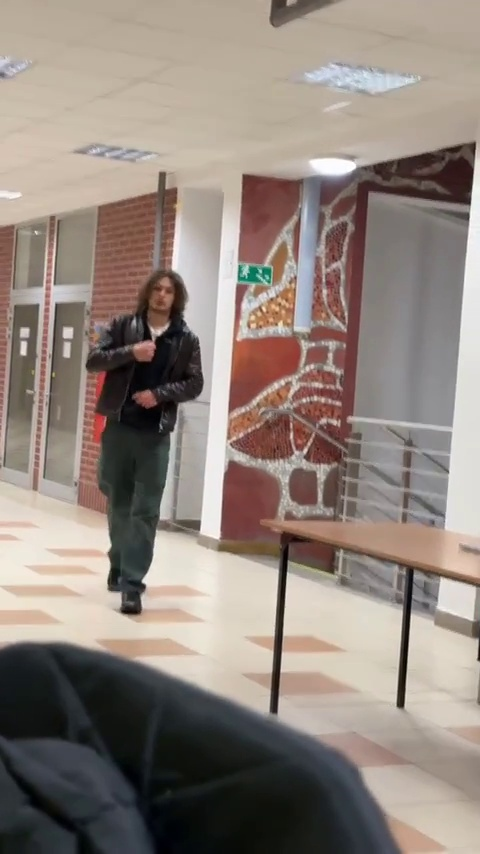no vest: (89, 269, 206, 615)
